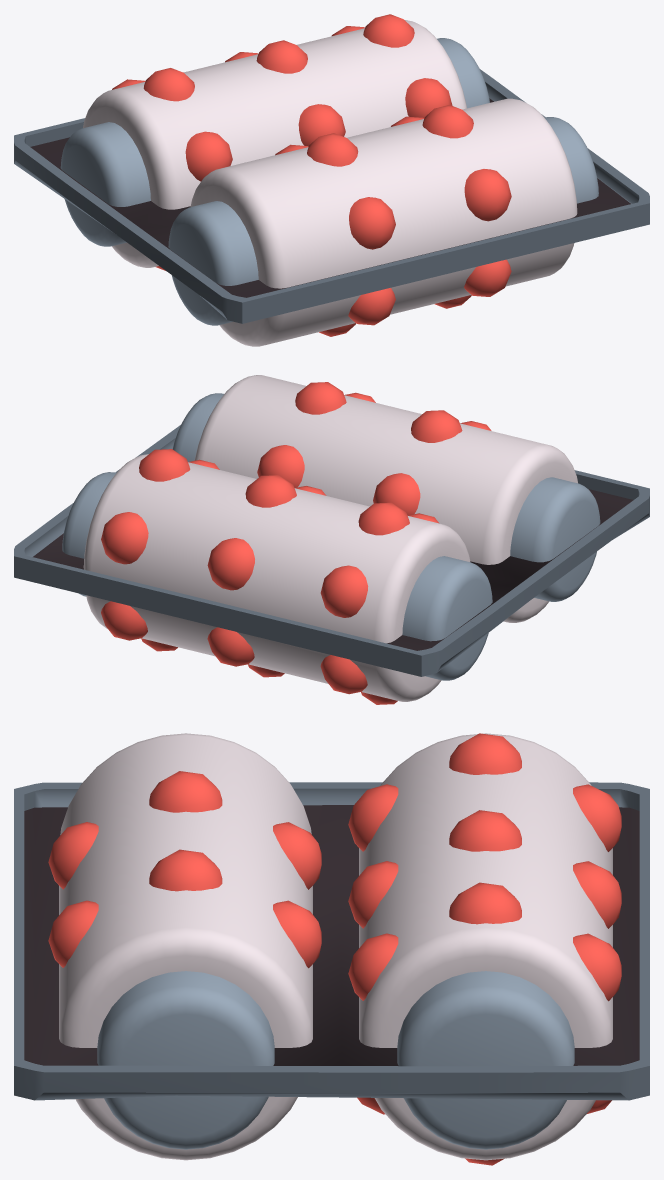
Rendered from HorizontalDoubleGrinder.fbx.
3 views of the same model, one above another, from view 1: azimuth 30°, elevation 25°; view 2: azimuth 150°, elevation 25°; view 3: azimuth 270°, elevation 25° (orthographic). The views are drawn at different scales.
Visible parts, largest first — view 1: HorizontalDoubleGrinder.001, HorizontalDoubleGrinder, HorizontalDoubleGrinderBase; view 2: HorizontalDoubleGrinder, HorizontalDoubleGrinder.001, HorizontalDoubleGrinderBase; view 3: HorizontalDoubleGrinder, HorizontalDoubleGrinder.001, HorizontalDoubleGrinderBase.
Boxes of the visible parts, x1=… form: HorizontalDoubleGrinder.001: x1=168, y1=98, x2=598, y2=346; HorizontalDoubleGrinder: x1=60, y1=14, x2=489, y2=270; HorizontalDoubleGrinderBase: x1=14, y1=69, x2=649, y2=323; HorizontalDoubleGrinder: x1=62, y1=449, x2=492, y2=704; HorizontalDoubleGrinder.001: x1=172, y1=375, x2=600, y2=622; HorizontalDoubleGrinderBase: x1=14, y1=425, x2=649, y2=676; HorizontalDoubleGrinder: x1=348, y1=733, x2=621, y2=1165; HorizontalDoubleGrinder.001: x1=48, y1=733, x2=321, y2=1160; HorizontalDoubleGrinderBase: x1=14, y1=782, x2=649, y2=1100.
Bounding box in the file's own units: 304 × 135 × 281.
